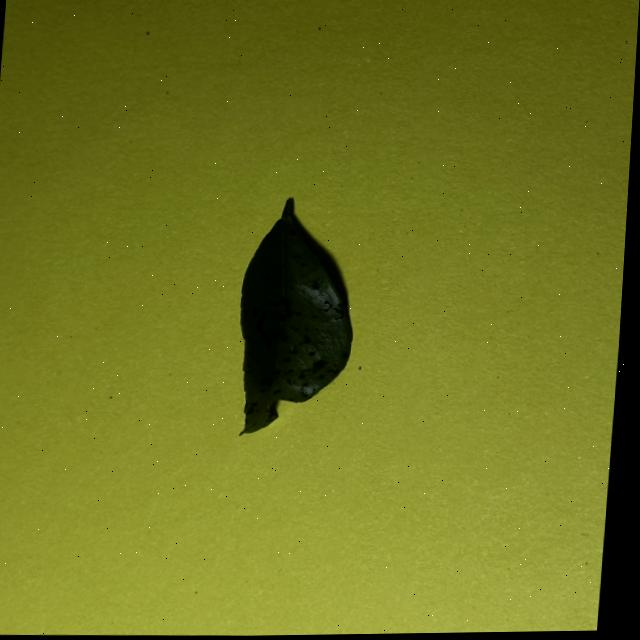sooty_mold: (240, 199, 351, 433)
